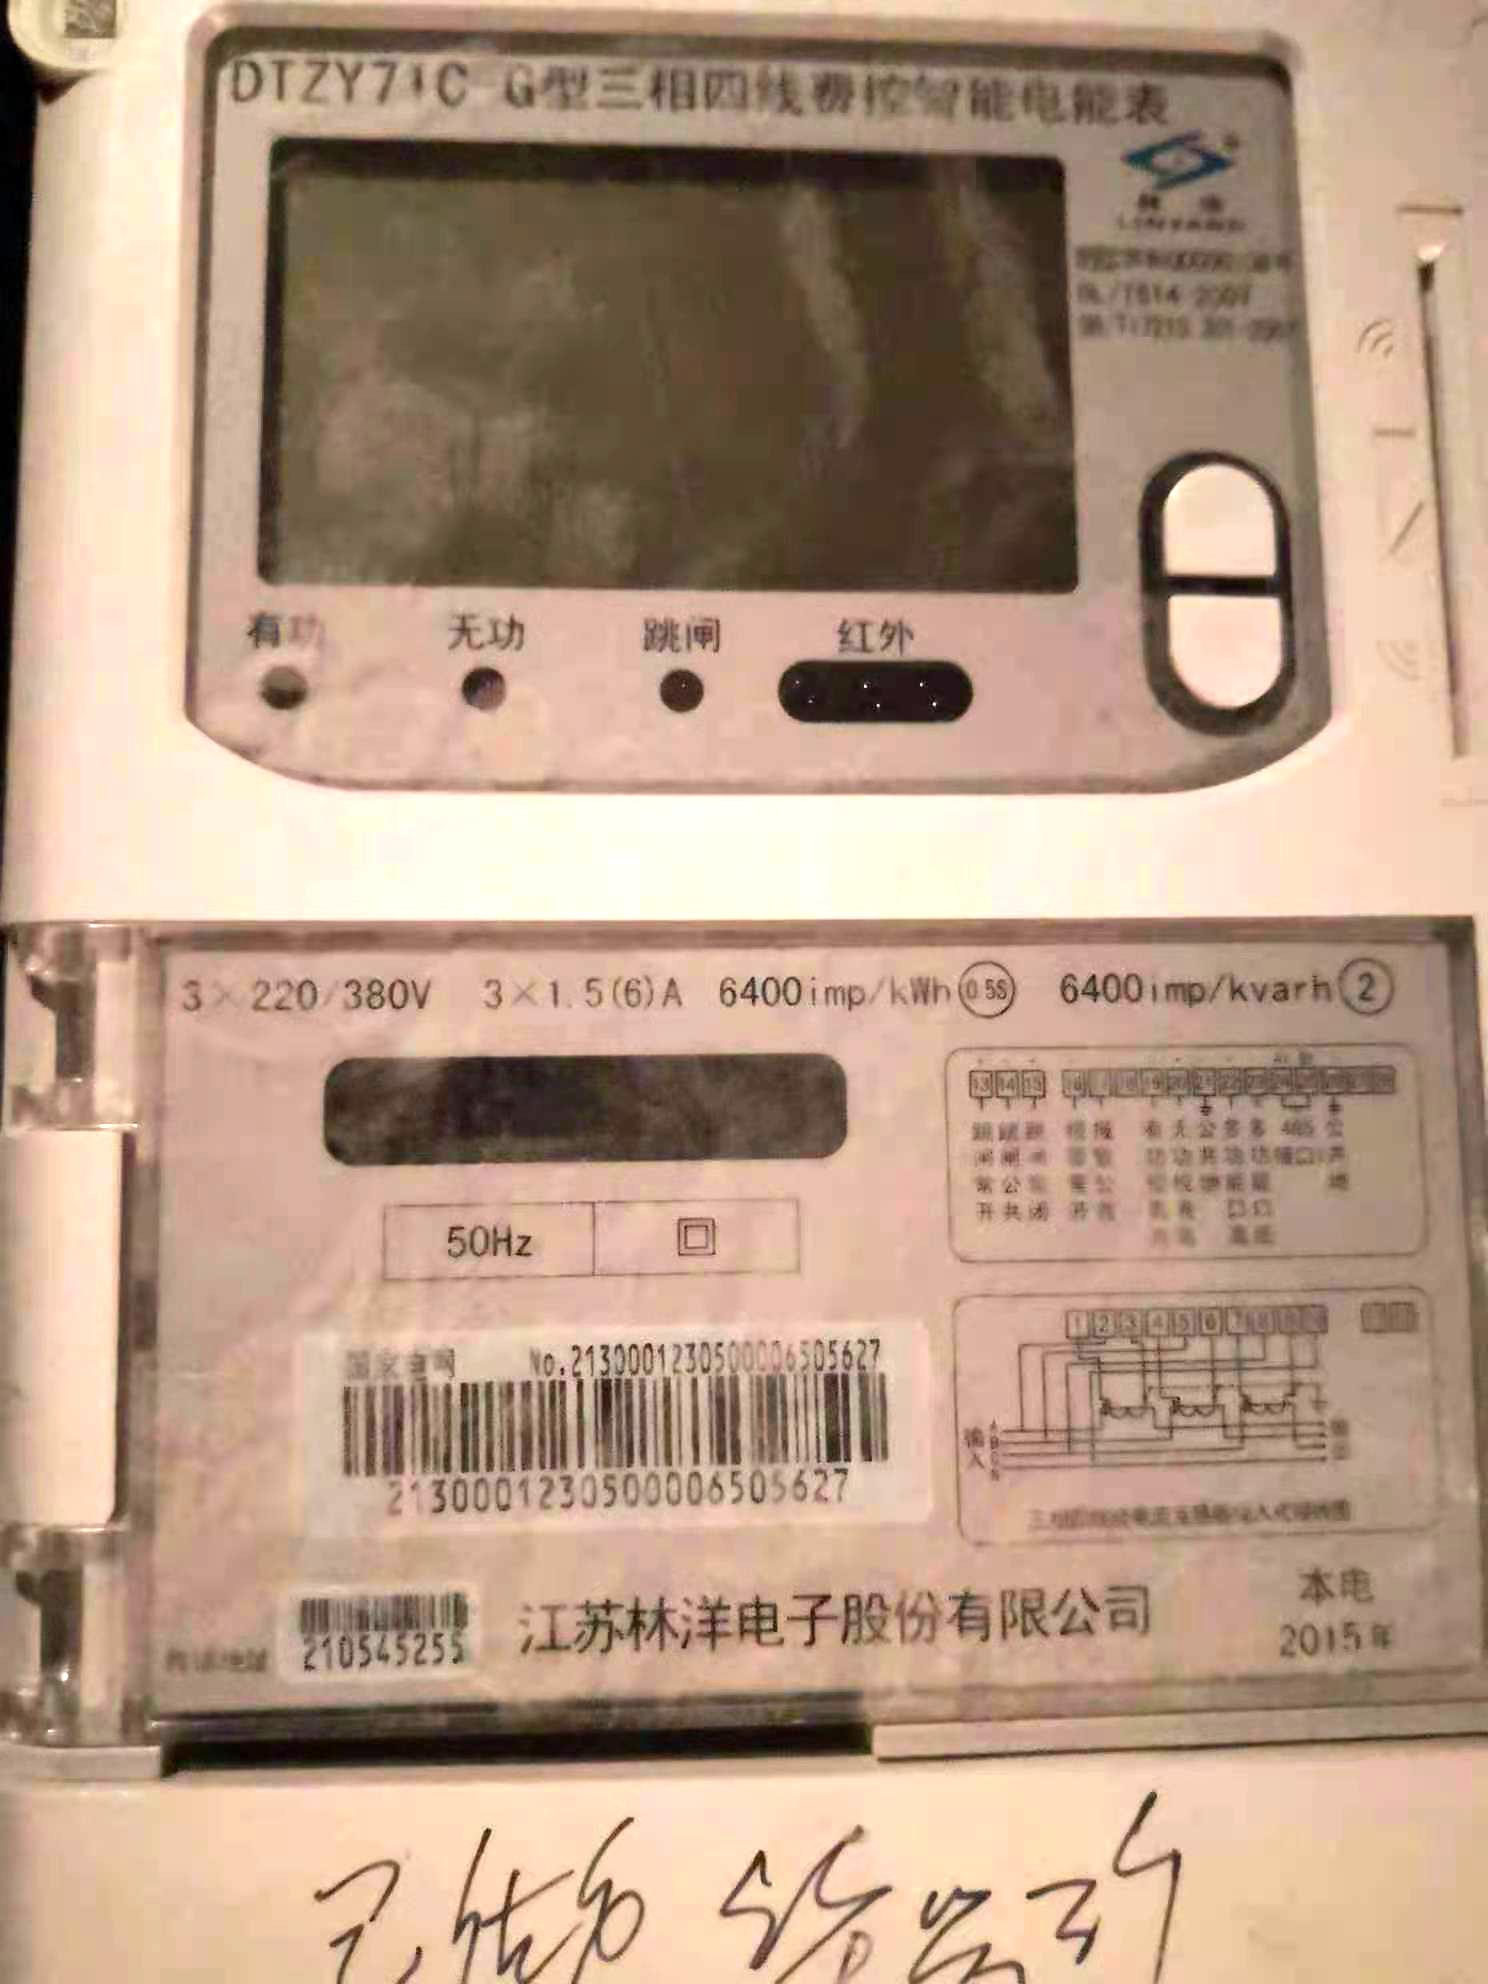digital: (2, 2, 1482, 1776)
